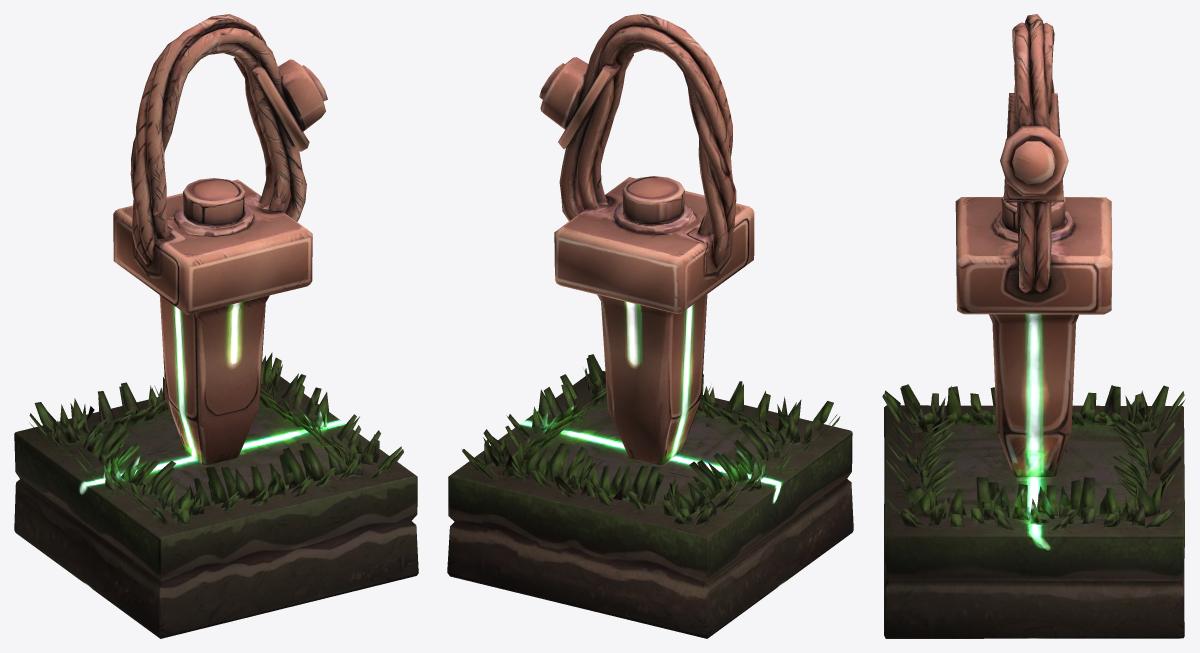
File: grounding.glb
3 views of the same model, side by side, from view 1: azimuth 30°, elevation 25°; view 2: azimuth 150°, elevation 25°; view 3: azimuth 270°, elevation 25° (orthographic). The views are drawn at different scales.
Size of the model in its own units: 0.5059 by 0.9961 by 0.4961.
Materials: 1 (1 with a texture image).
